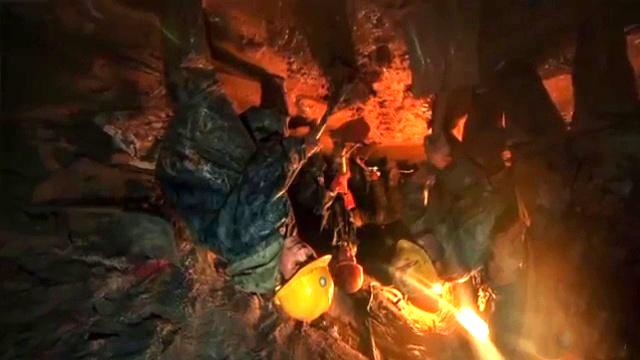helmet: (272, 234, 335, 323), (390, 231, 445, 295), (336, 246, 364, 294)
